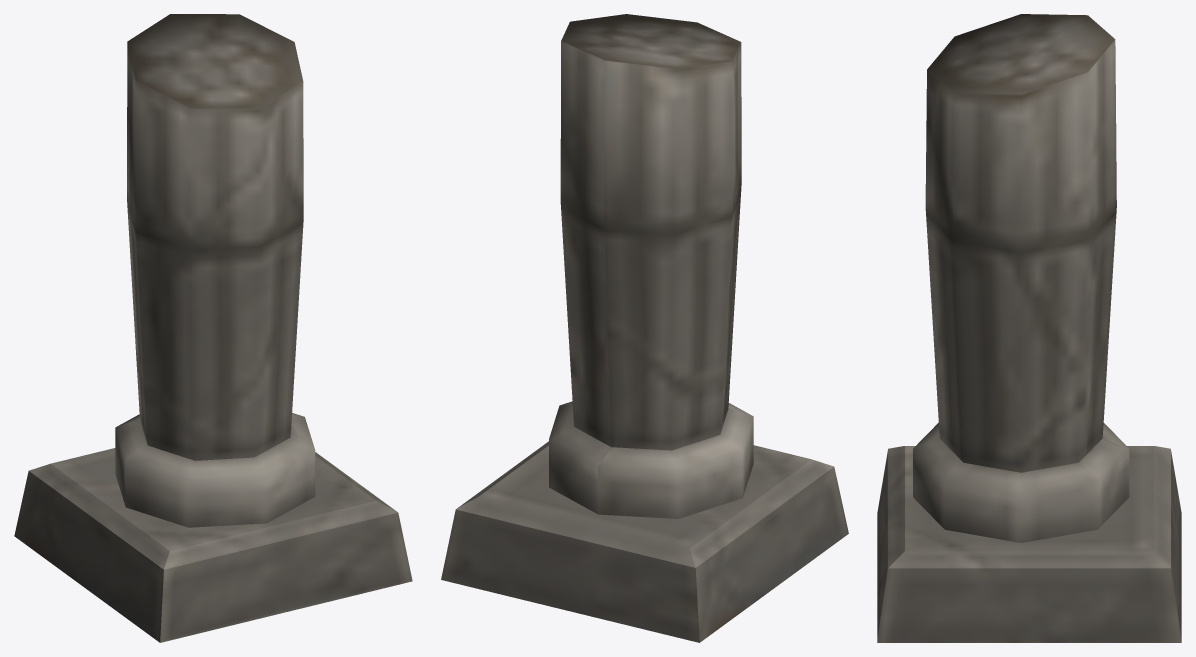
Rendered from ruin_pillar_2.FBX.
3 renders of one model, left to right at view 1: azimuth 30°, elevation 25°; view 2: azimuth 150°, elevation 25°; view 3: azimuth 270°, elevation 25°, orthographic. The views are drawn at different scales.
Parts seen in each view (by area): view 1: Object031; view 2: Object031; view 3: Object031.
Part boxes in pixels (bbox=[...]): Object031: bbox=[14, 14, 412, 642]; Object031: bbox=[441, 14, 848, 642]; Object031: bbox=[877, 14, 1181, 642].
Size of the model in its own units: 0.8388 by 1.64 by 0.8388.
